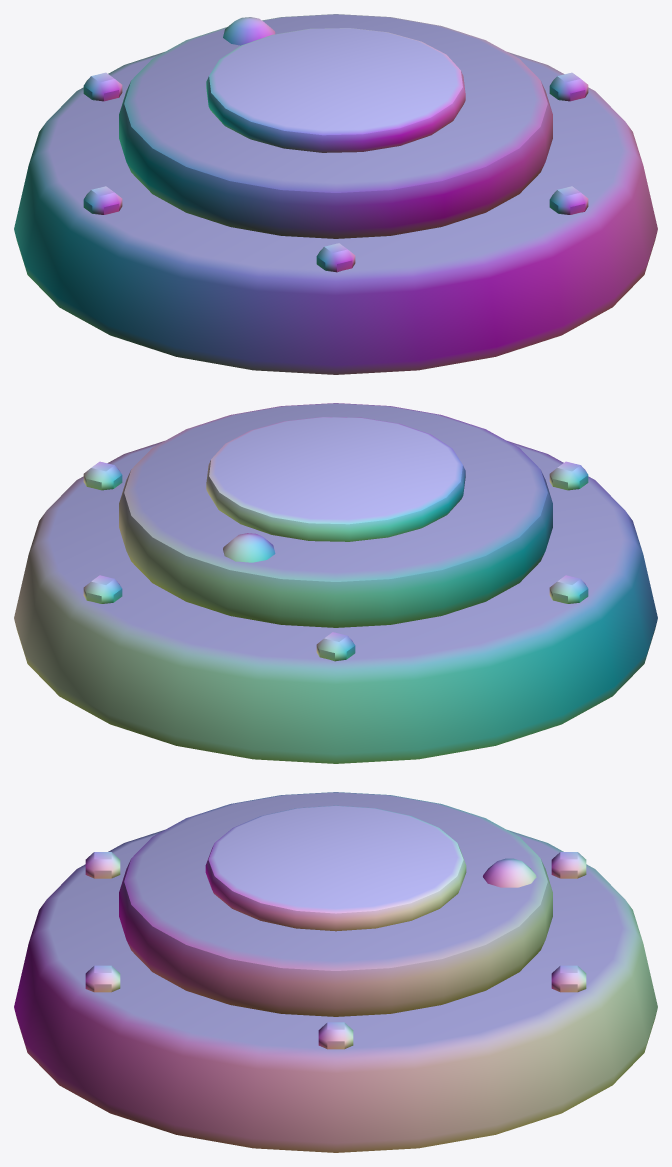
File: gad_mine.glb
3 views of the same model, one above another, from view 1: azimuth 30°, elevation 25°; view 2: azimuth 150°, elevation 25°; view 3: azimuth 270°, elevation 25° (orthographic).
Parts seen in each view (by area): view 1: mine, light; view 2: mine, light; view 3: mine, light.
Boxes of the visible parts, box(x1,y1,x2,y2) form: mine: box(14, 14, 657, 374); light: box(223, 17, 275, 45); mine: box(14, 403, 657, 763); light: box(223, 533, 275, 562); mine: box(14, 792, 657, 1152); light: box(483, 858, 536, 887).
Bounding box in the file's own units: 0.1484 × 0.042 × 0.1484.
